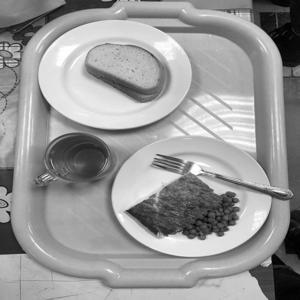bread: (80, 38, 168, 105)
casserole: (122, 169, 247, 251)
tea: (39, 130, 118, 194)
